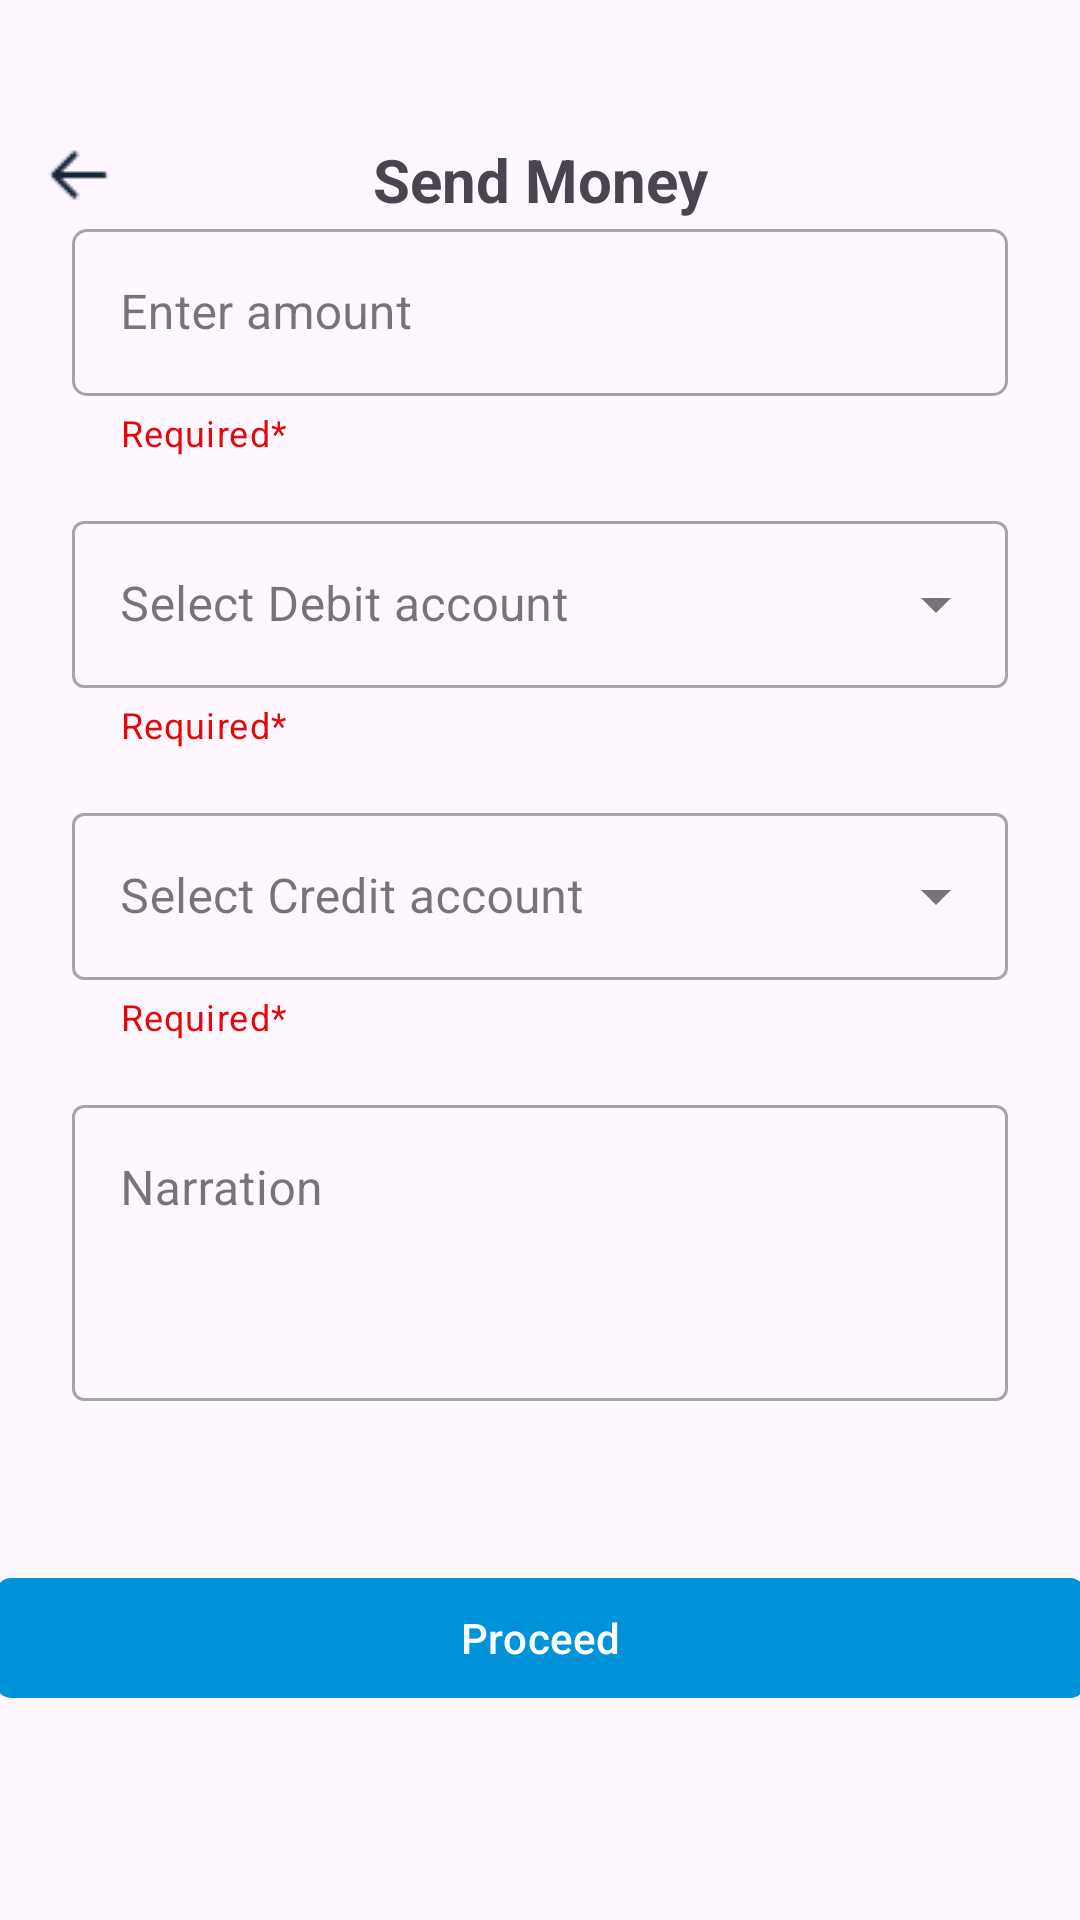

Named icons in this screenshot (1080 x 1920) and their centers, point (x, y):
arrowleft: point (79, 175)
